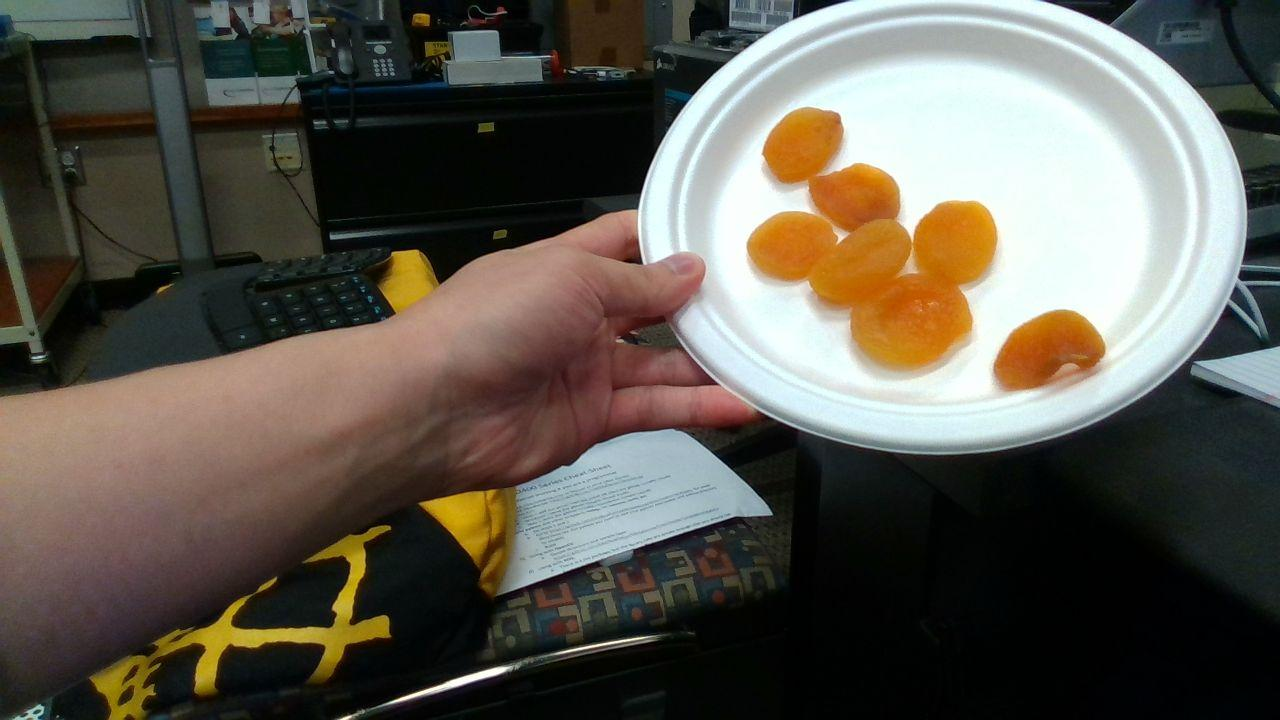apricot: (853, 275, 971, 367), (808, 219, 910, 303), (995, 312, 1105, 386), (916, 200, 996, 283), (763, 107, 843, 183), (748, 211, 837, 279), (810, 163, 900, 230)
plate: (638, 2, 1247, 451)
